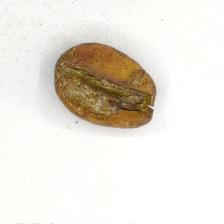NG: (54, 50, 145, 121)
